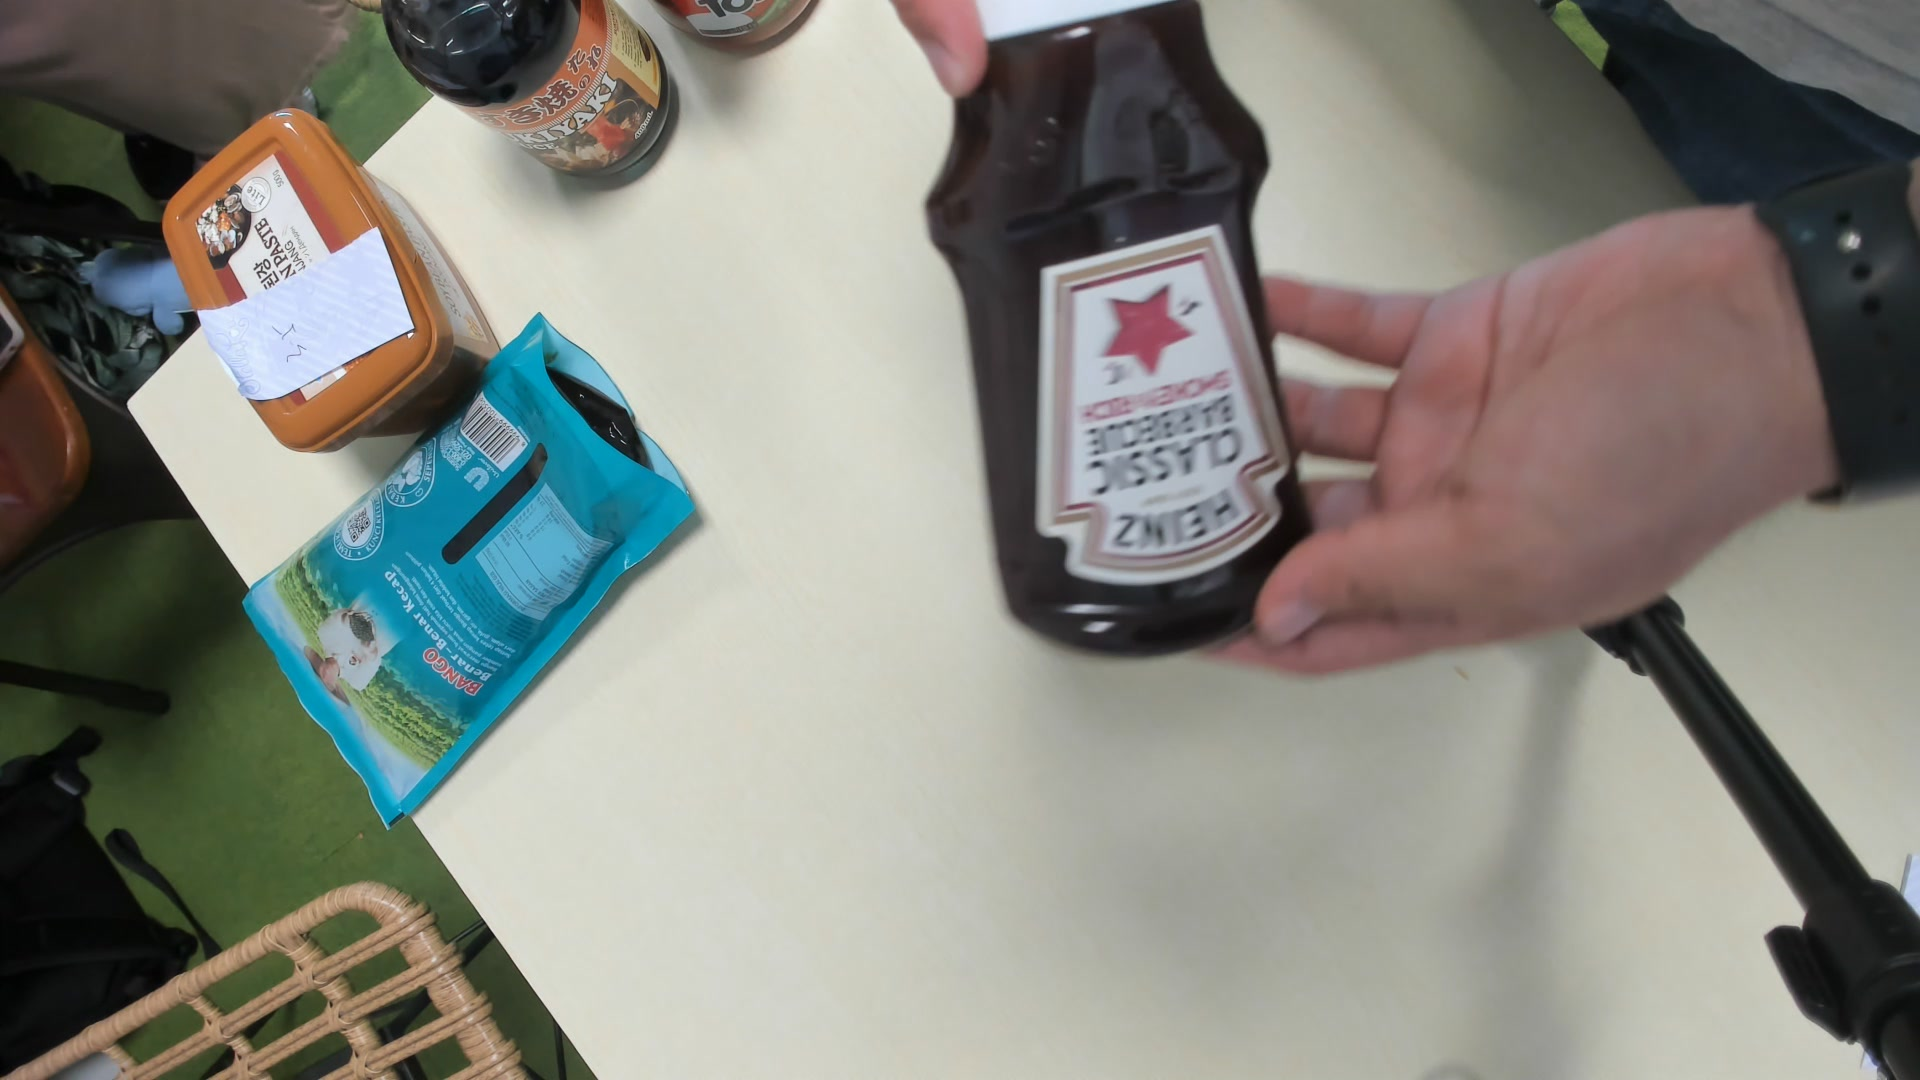OtherSauceDressing_400-499g_NonHalal_NonHealthy: (924, 3, 1317, 665)
